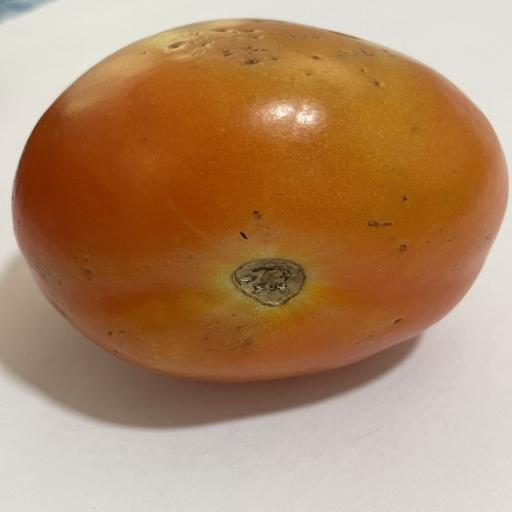unripe: (13, 18, 508, 381)
